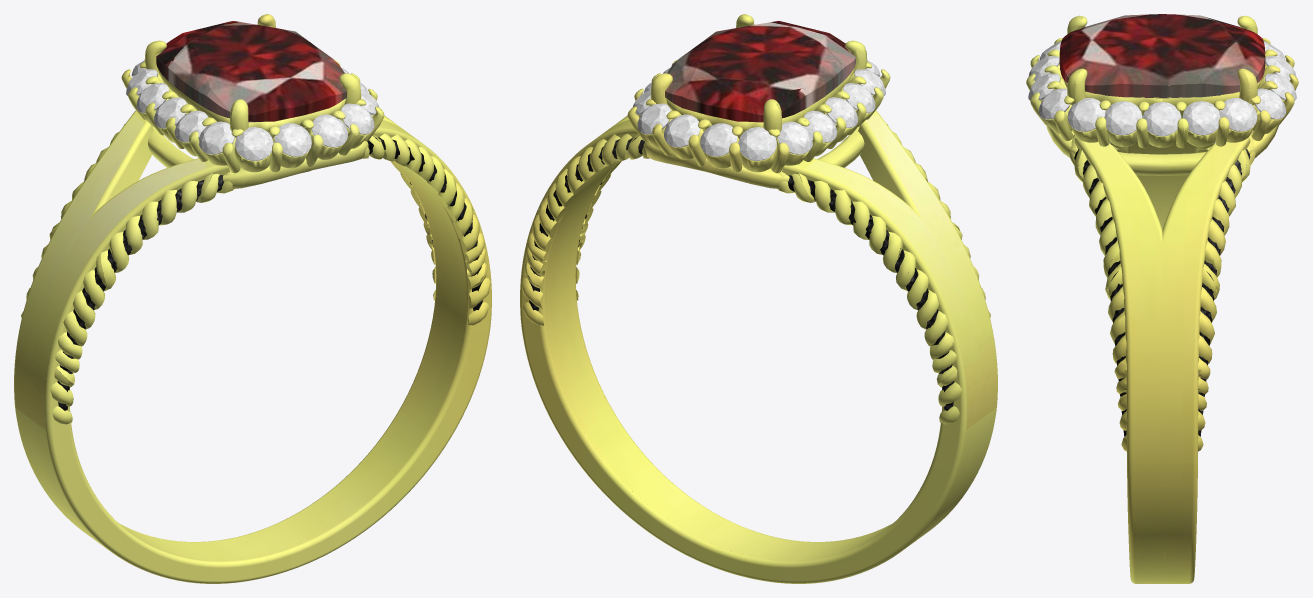
3 renders of one model, left to right at view 1: azimuth 30°, elevation 25°; view 2: azimuth 150°, elevation 25°; view 3: azimuth 270°, elevation 25°, orthographic.
Parts seen in each view (by area): view 1: body, core1, diamond, black; view 2: body, core1, diamond, black; view 3: body, core1, diamond, black.
Part boxes in pixels (x1=…): body: x1=14, y1=14, x2=491, y2=583; core1: x1=156, y1=21, x2=346, y2=122; diamond: x1=126, y1=60, x2=379, y2=161; black: x1=57, y1=137, x2=482, y2=410; body: x1=520, y1=14, x2=997, y2=583; core1: x1=665, y1=21, x2=855, y2=122; diamond: x1=633, y1=60, x2=885, y2=161; black: x1=528, y1=137, x2=954, y2=410; body: x1=1026, y1=15, x2=1298, y2=583; core1: x1=1059, y1=14, x2=1265, y2=98; diamond: x1=1028, y1=41, x2=1296, y2=136; black: x1=1074, y1=149, x2=1250, y2=436.
Bounding box in the file's own units: 20.26 × 22.31 × 10.61.
Materials: 4 (4 with a texture image).
